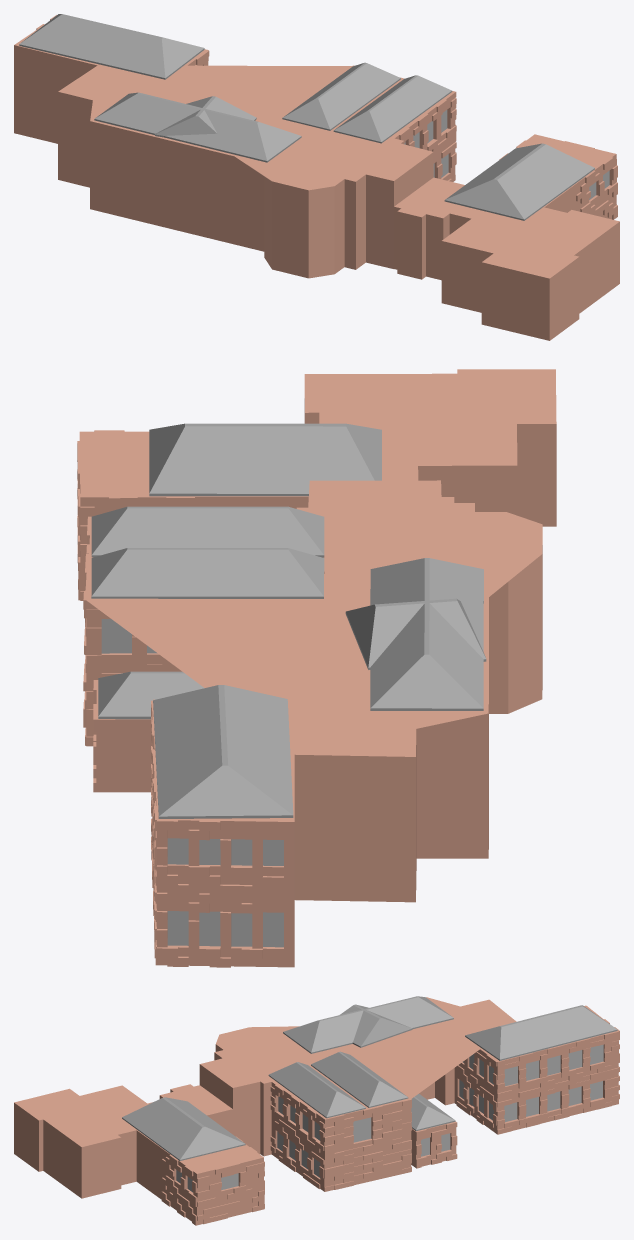
The model's file is international_care_building.fbx.
3 renders of one model, top to bottom at view 1: azimuth 30°, elevation 25°; view 2: azimuth 150°, elevation 25°; view 3: azimuth 270°, elevation 25°, orthographic. The views are drawn at different scales.
Visible parts, largest first — view 1: polySurface32; view 2: polySurface32; view 3: polySurface32.
Boxes of the visible parts, x1,y1,x2,y2 form: polySurface32: (14, 14, 619, 340); polySurface32: (77, 369, 556, 967); polySurface32: (14, 996, 619, 1225).
Bounding box in the file's own units: 105 × 28.38 × 173.
